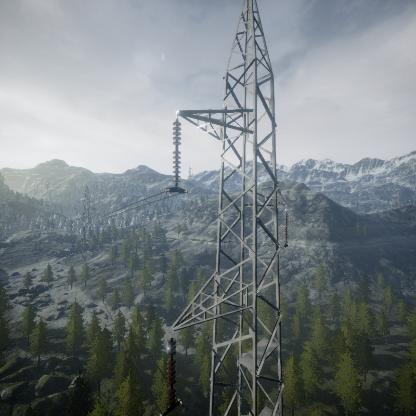insulator: (168, 118, 184, 187), (164, 333, 179, 402), (282, 209, 290, 244)
tower: (162, 0, 298, 416)
